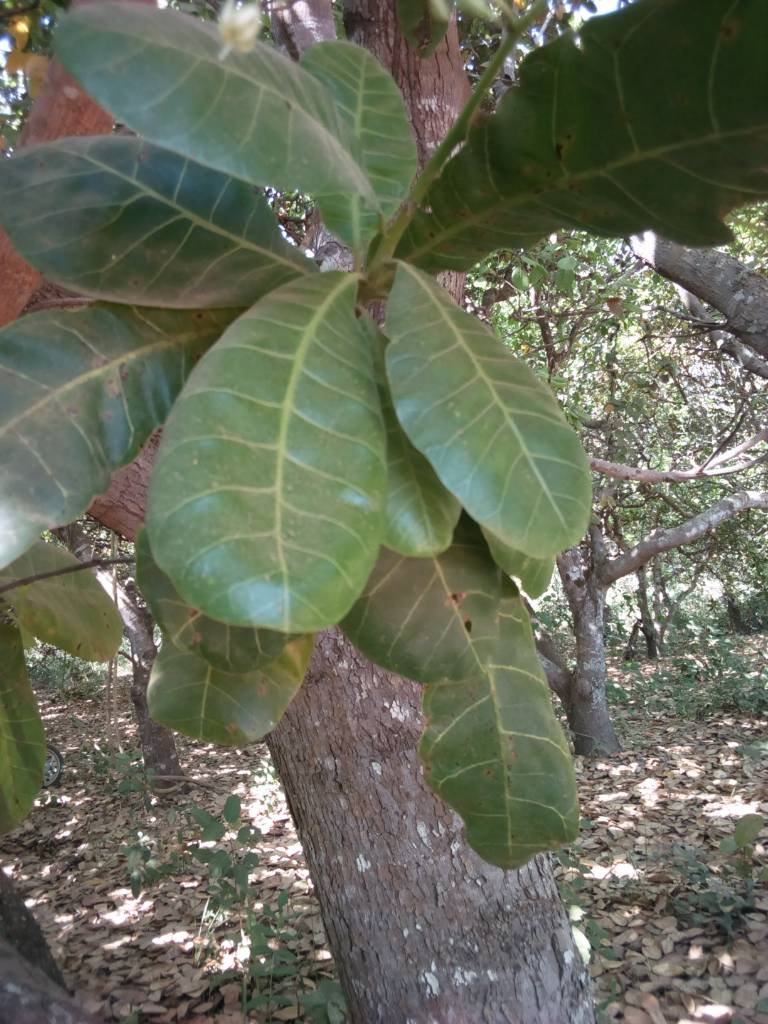Helopeltis anacardii: (418, 685, 579, 867)
